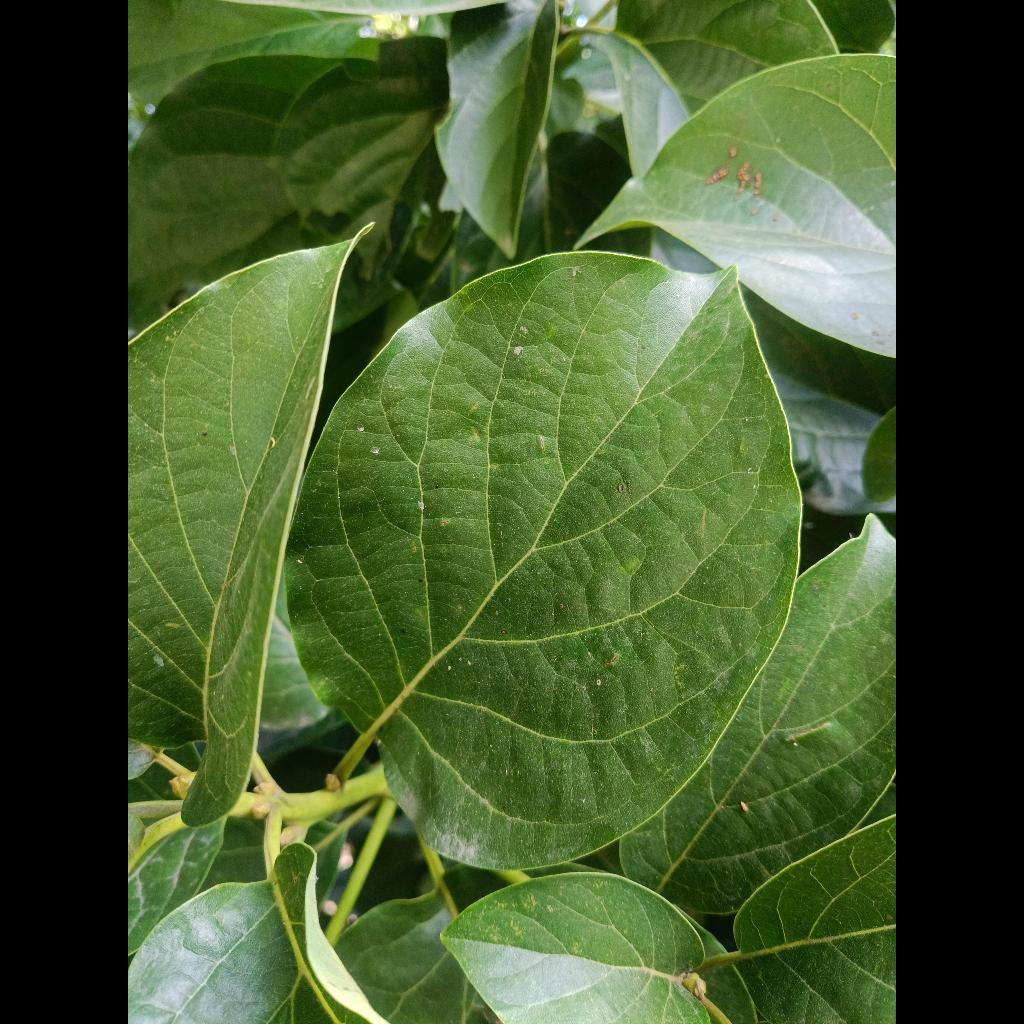Healthy: (286, 252, 800, 869)
